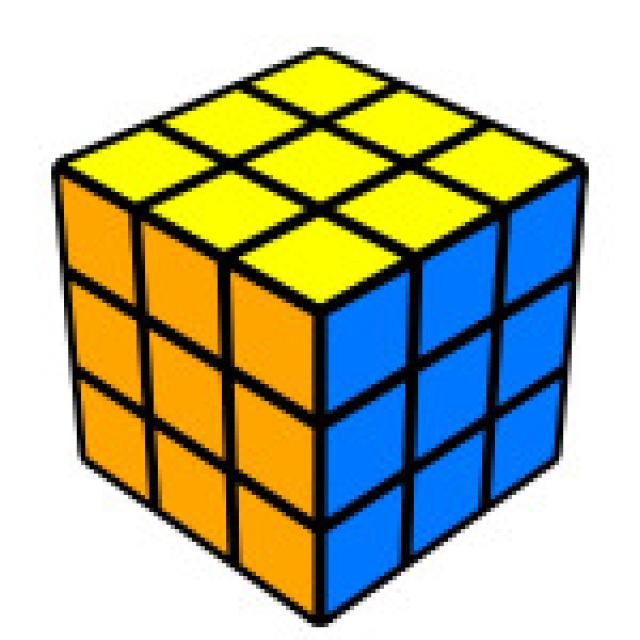Cubo-Resuelto: (55, 47, 585, 614)
